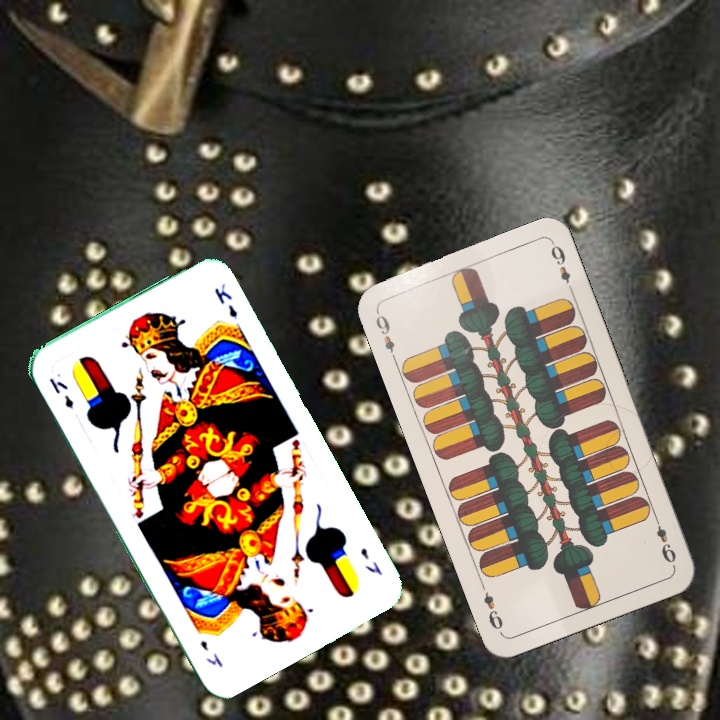E9: (371, 307, 399, 364), (650, 511, 679, 566)
EK: (45, 374, 77, 411), (356, 543, 385, 578)
